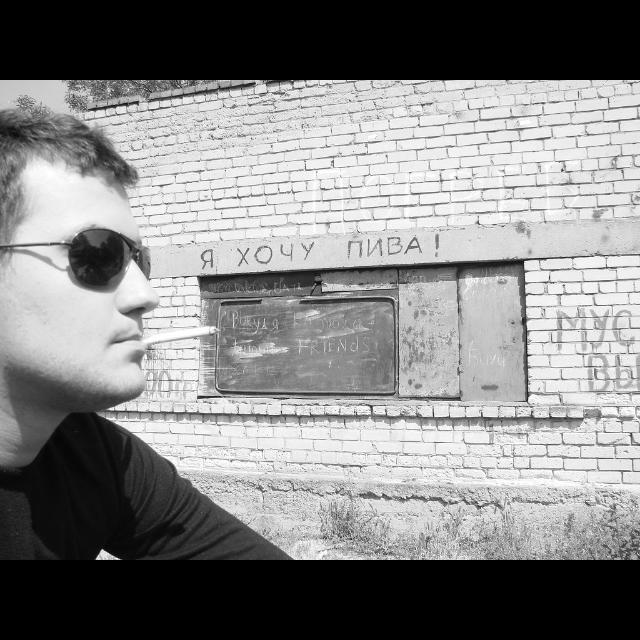rokok: (142, 316, 226, 356)
